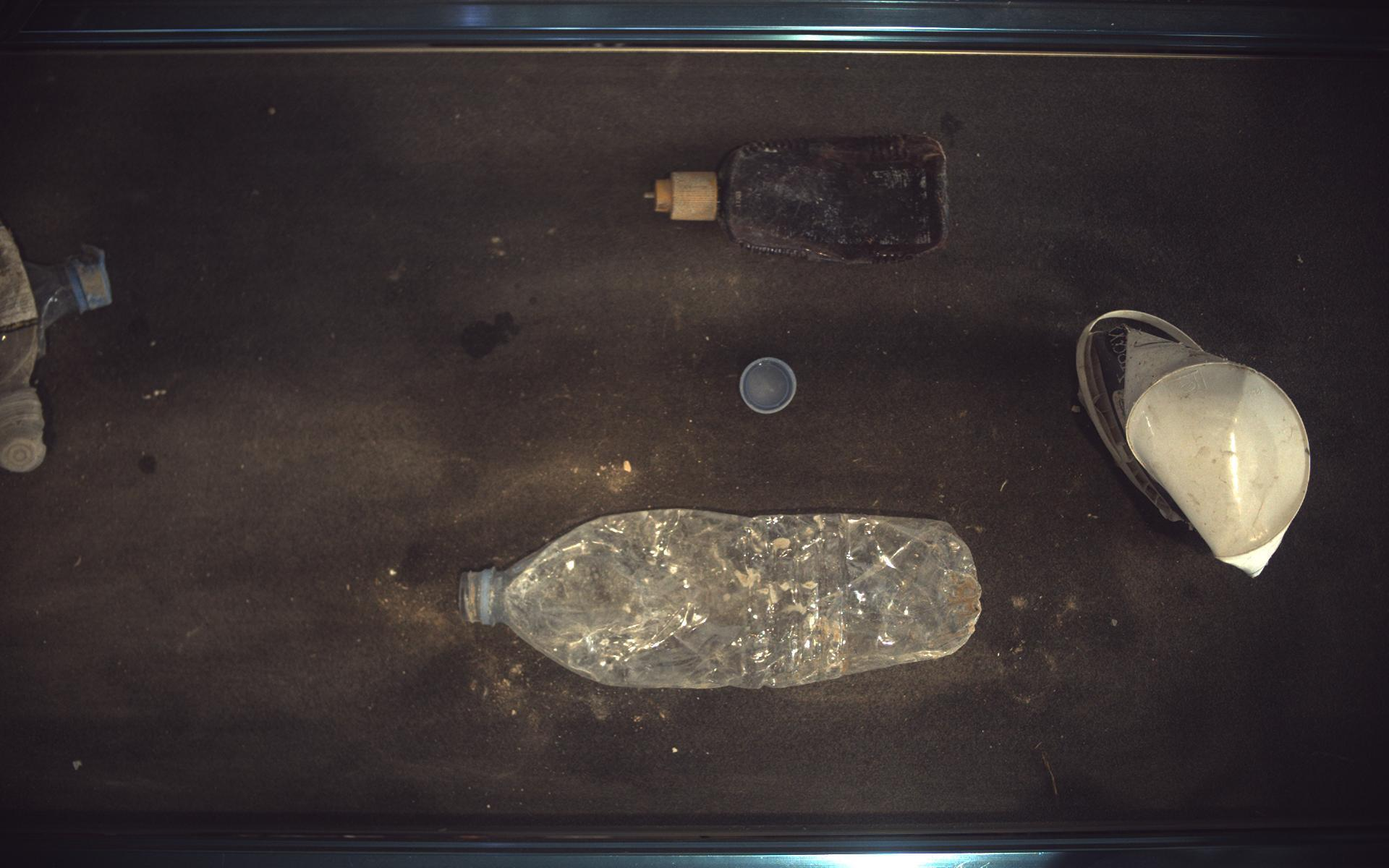general_w: (459, 509, 983, 689), (1079, 310, 1314, 576), (654, 134, 948, 261), (1, 224, 45, 473), (22, 244, 111, 356), (740, 357, 799, 414)
